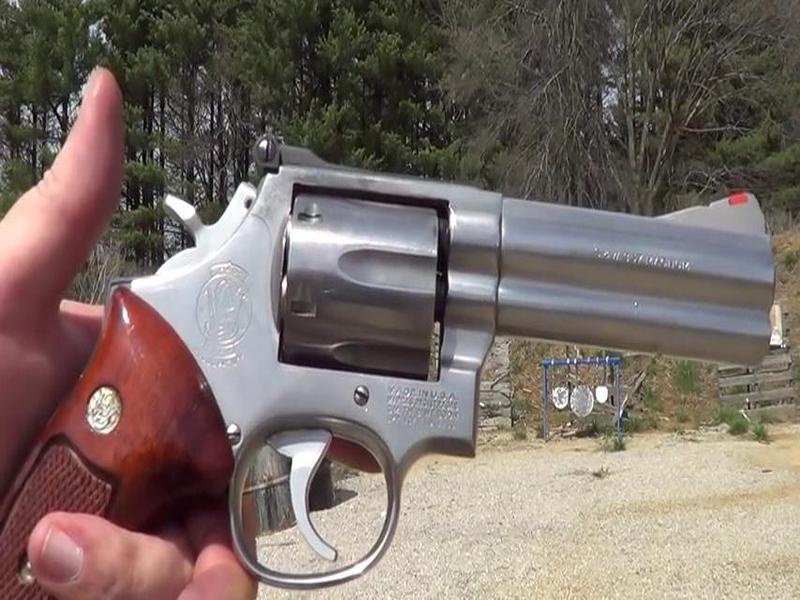Revolver: (47, 107, 775, 594)
